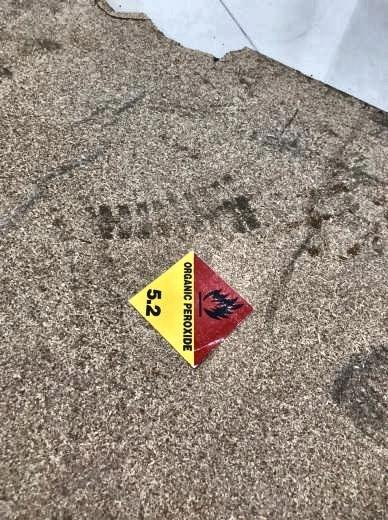organic-peroxide: (126, 251, 255, 369)
